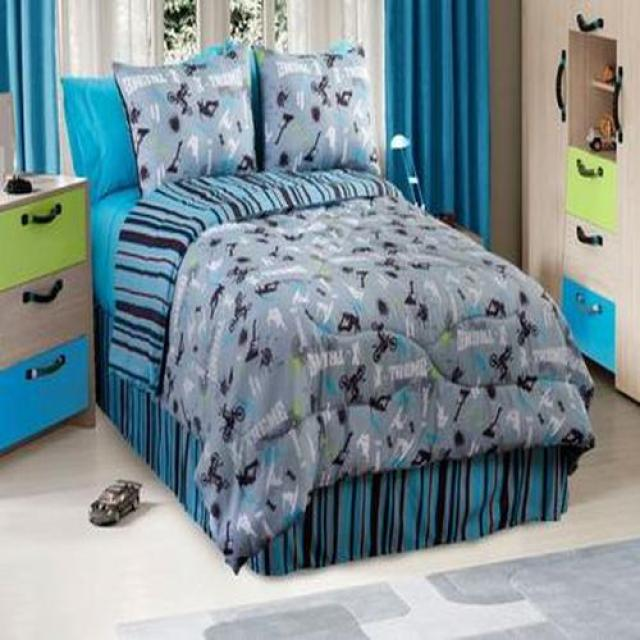bed: (61, 41, 598, 577)
